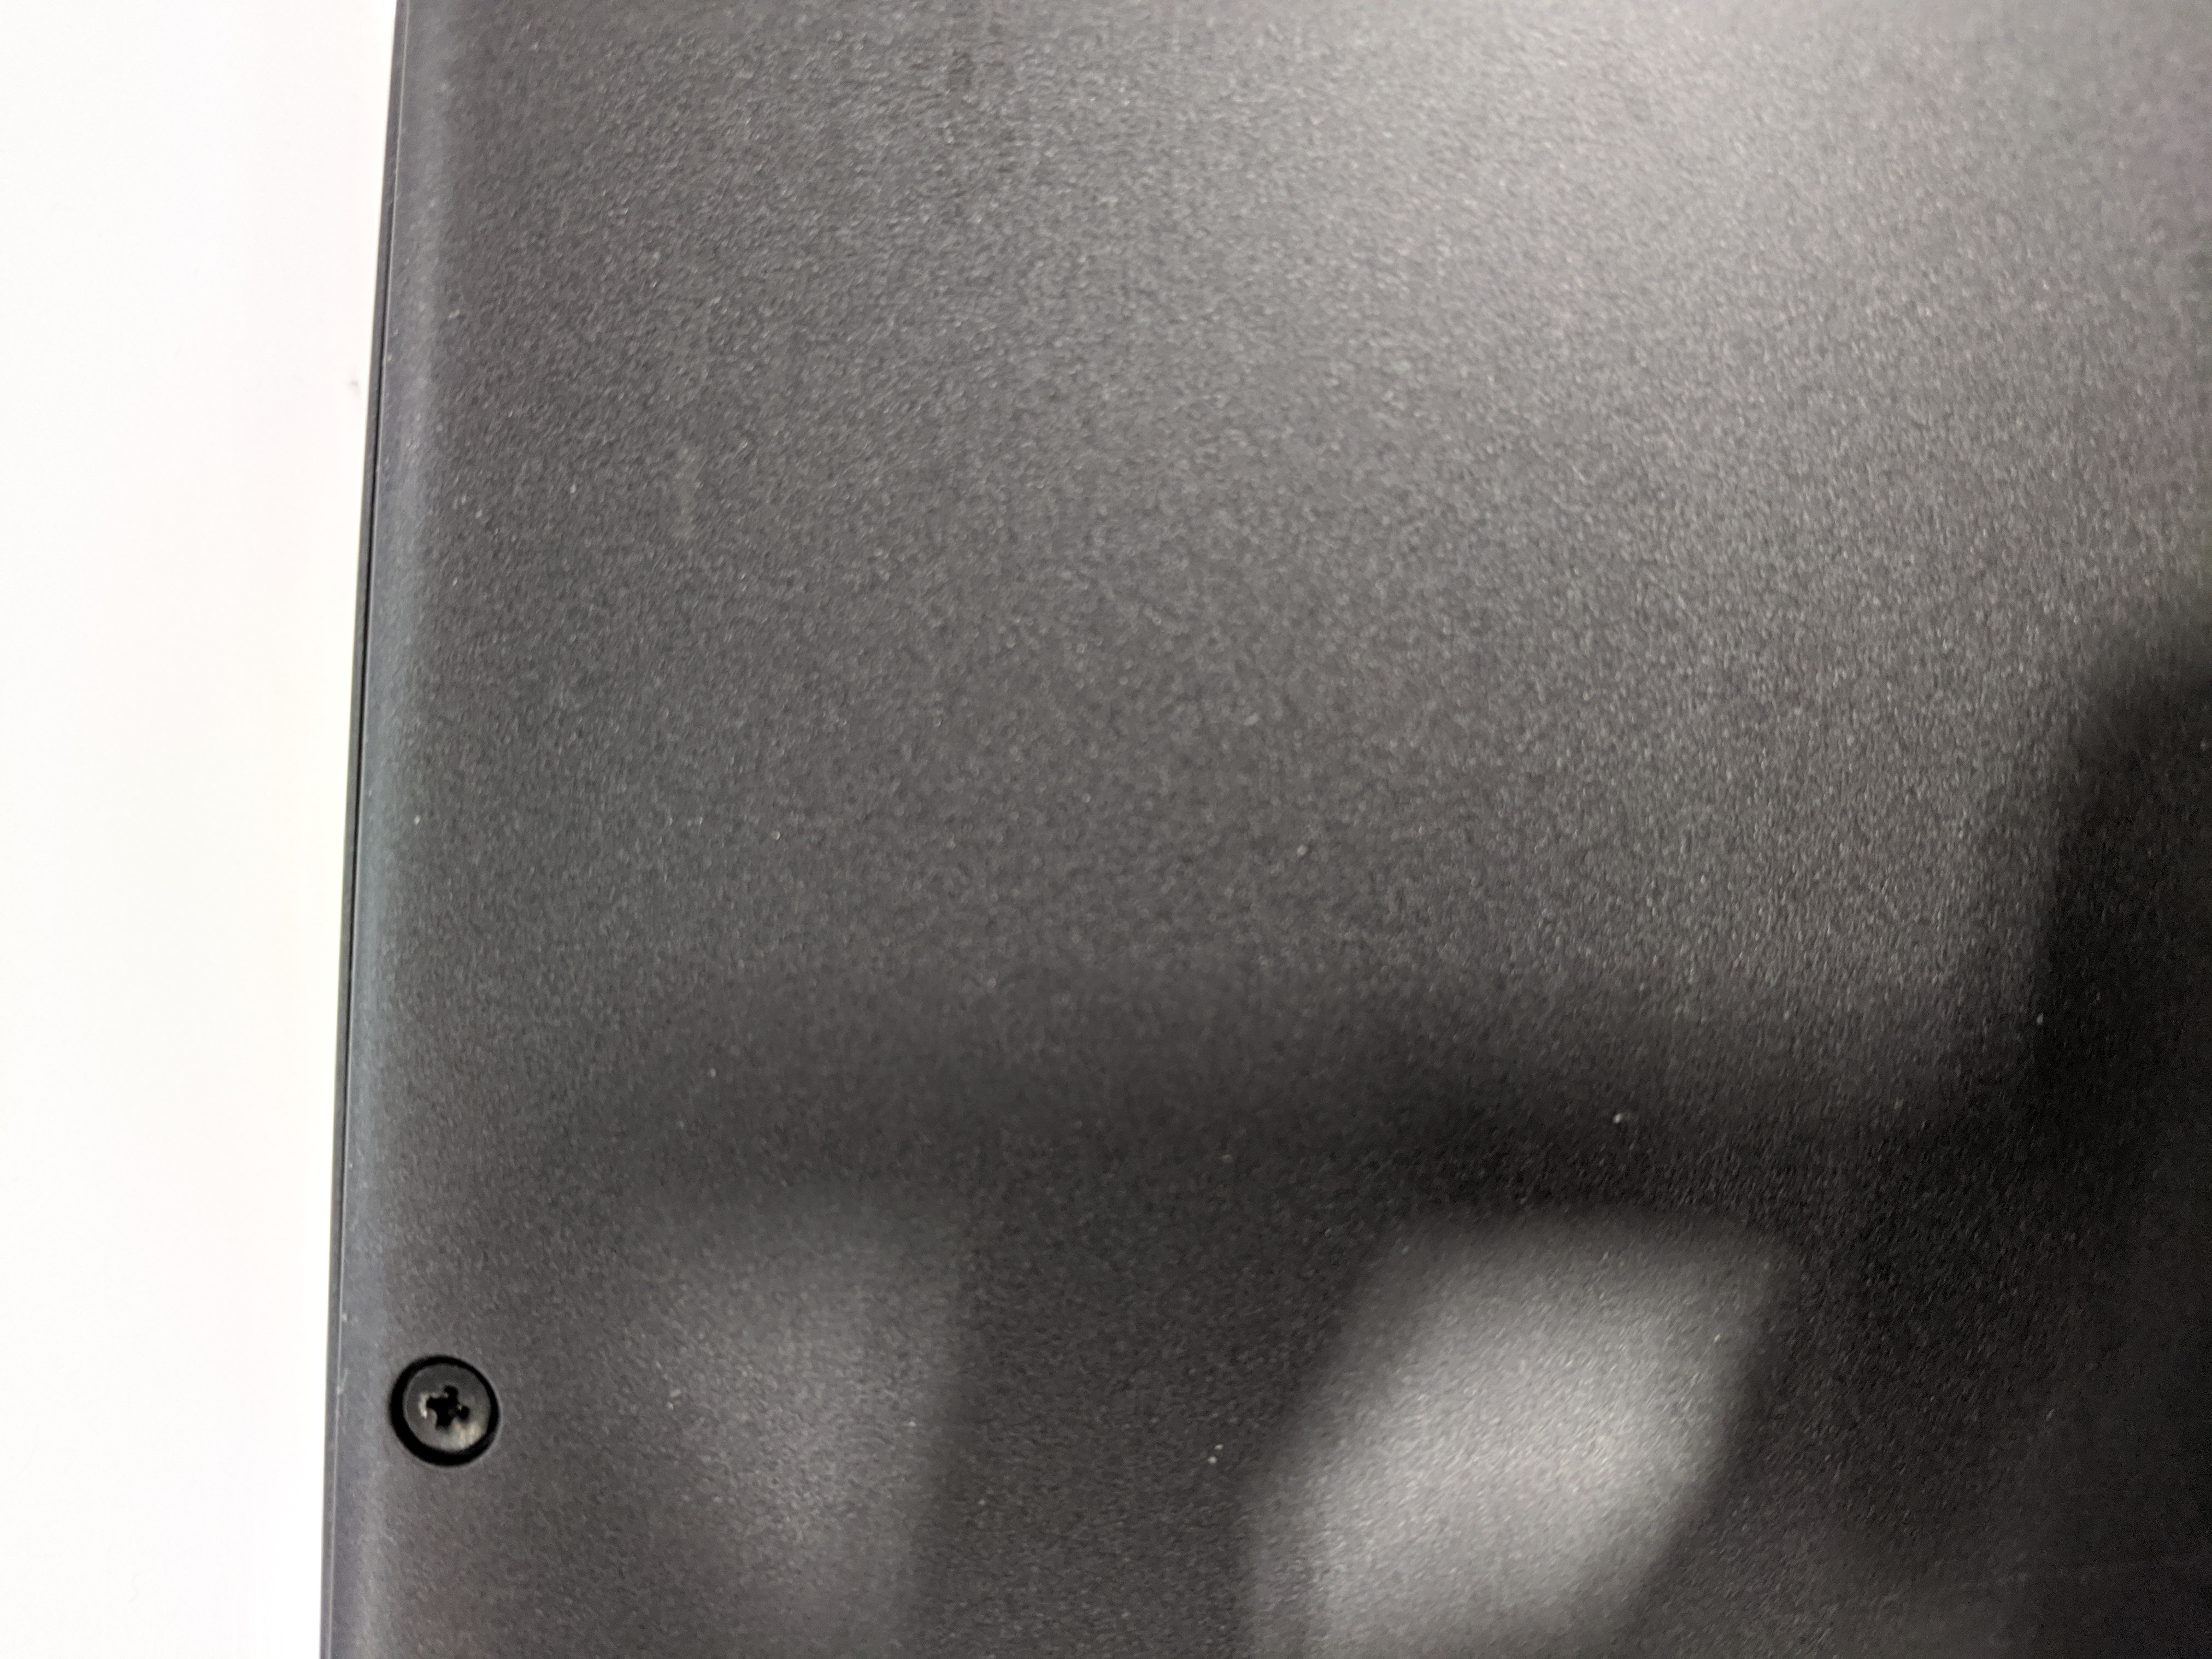cross_recessed_screw: (378, 1342, 498, 1462)
